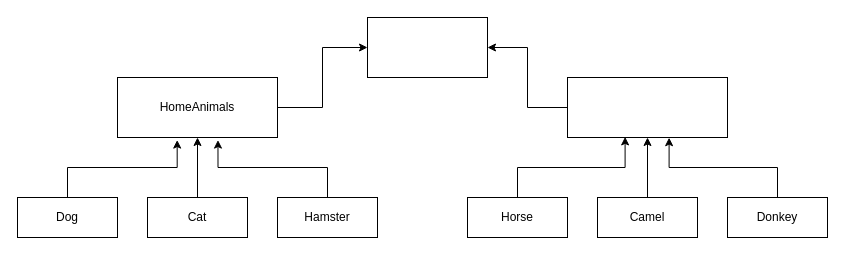
Some shapes in this 845 by 255 pixel diagram are drawn without their labels. The centre of each missing label's shape, as x and y in pixels:
"Animals" goes at [427,47].
"PackAnimals" goes at [647,107].
